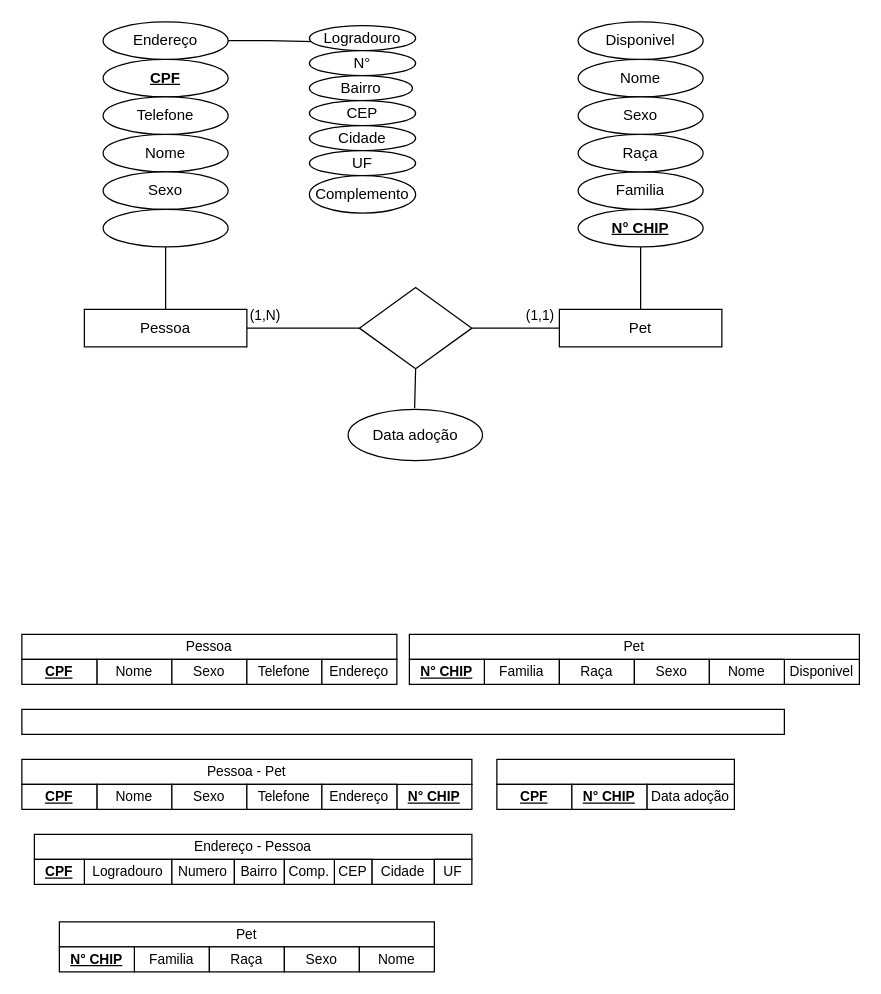
The diagram is 881 pixels wide and 994 high, and some of its shapes have lost their labels. Each missing label, with the centre of its shape:
"Adota" goes at pixel 415 327.
"Data de nascimento" goes at pixel 165 227.
"Nomalização" goes at pixel 402 721.
"Registro adoção" goes at pixel 615 771.
